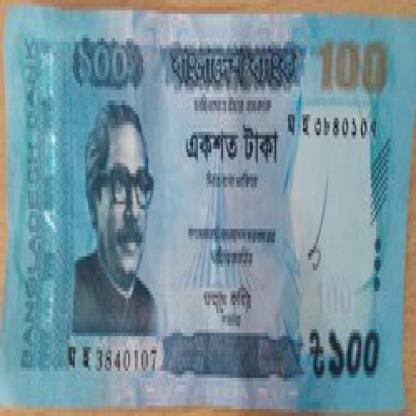one hundred taka: (308, 24, 399, 94), (323, 298, 391, 385), (68, 31, 140, 94)
